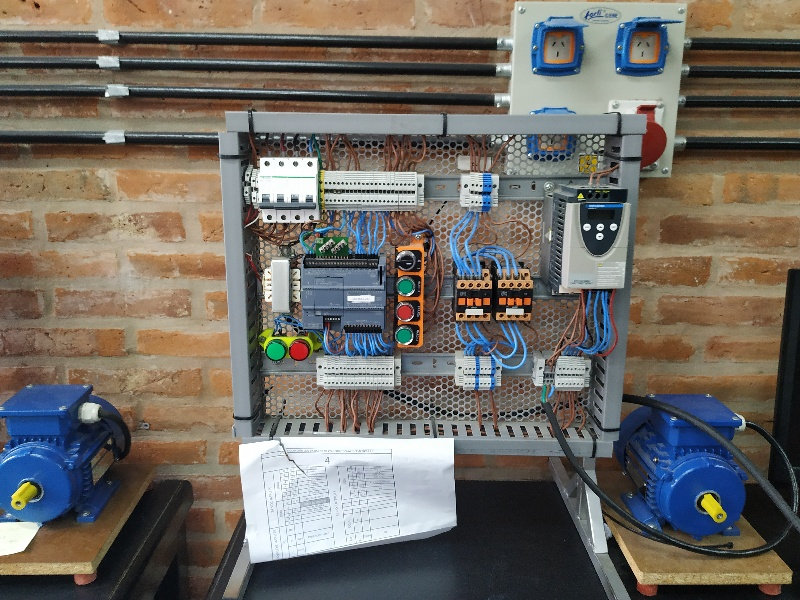Tablero 4: (231, 126, 629, 441)
